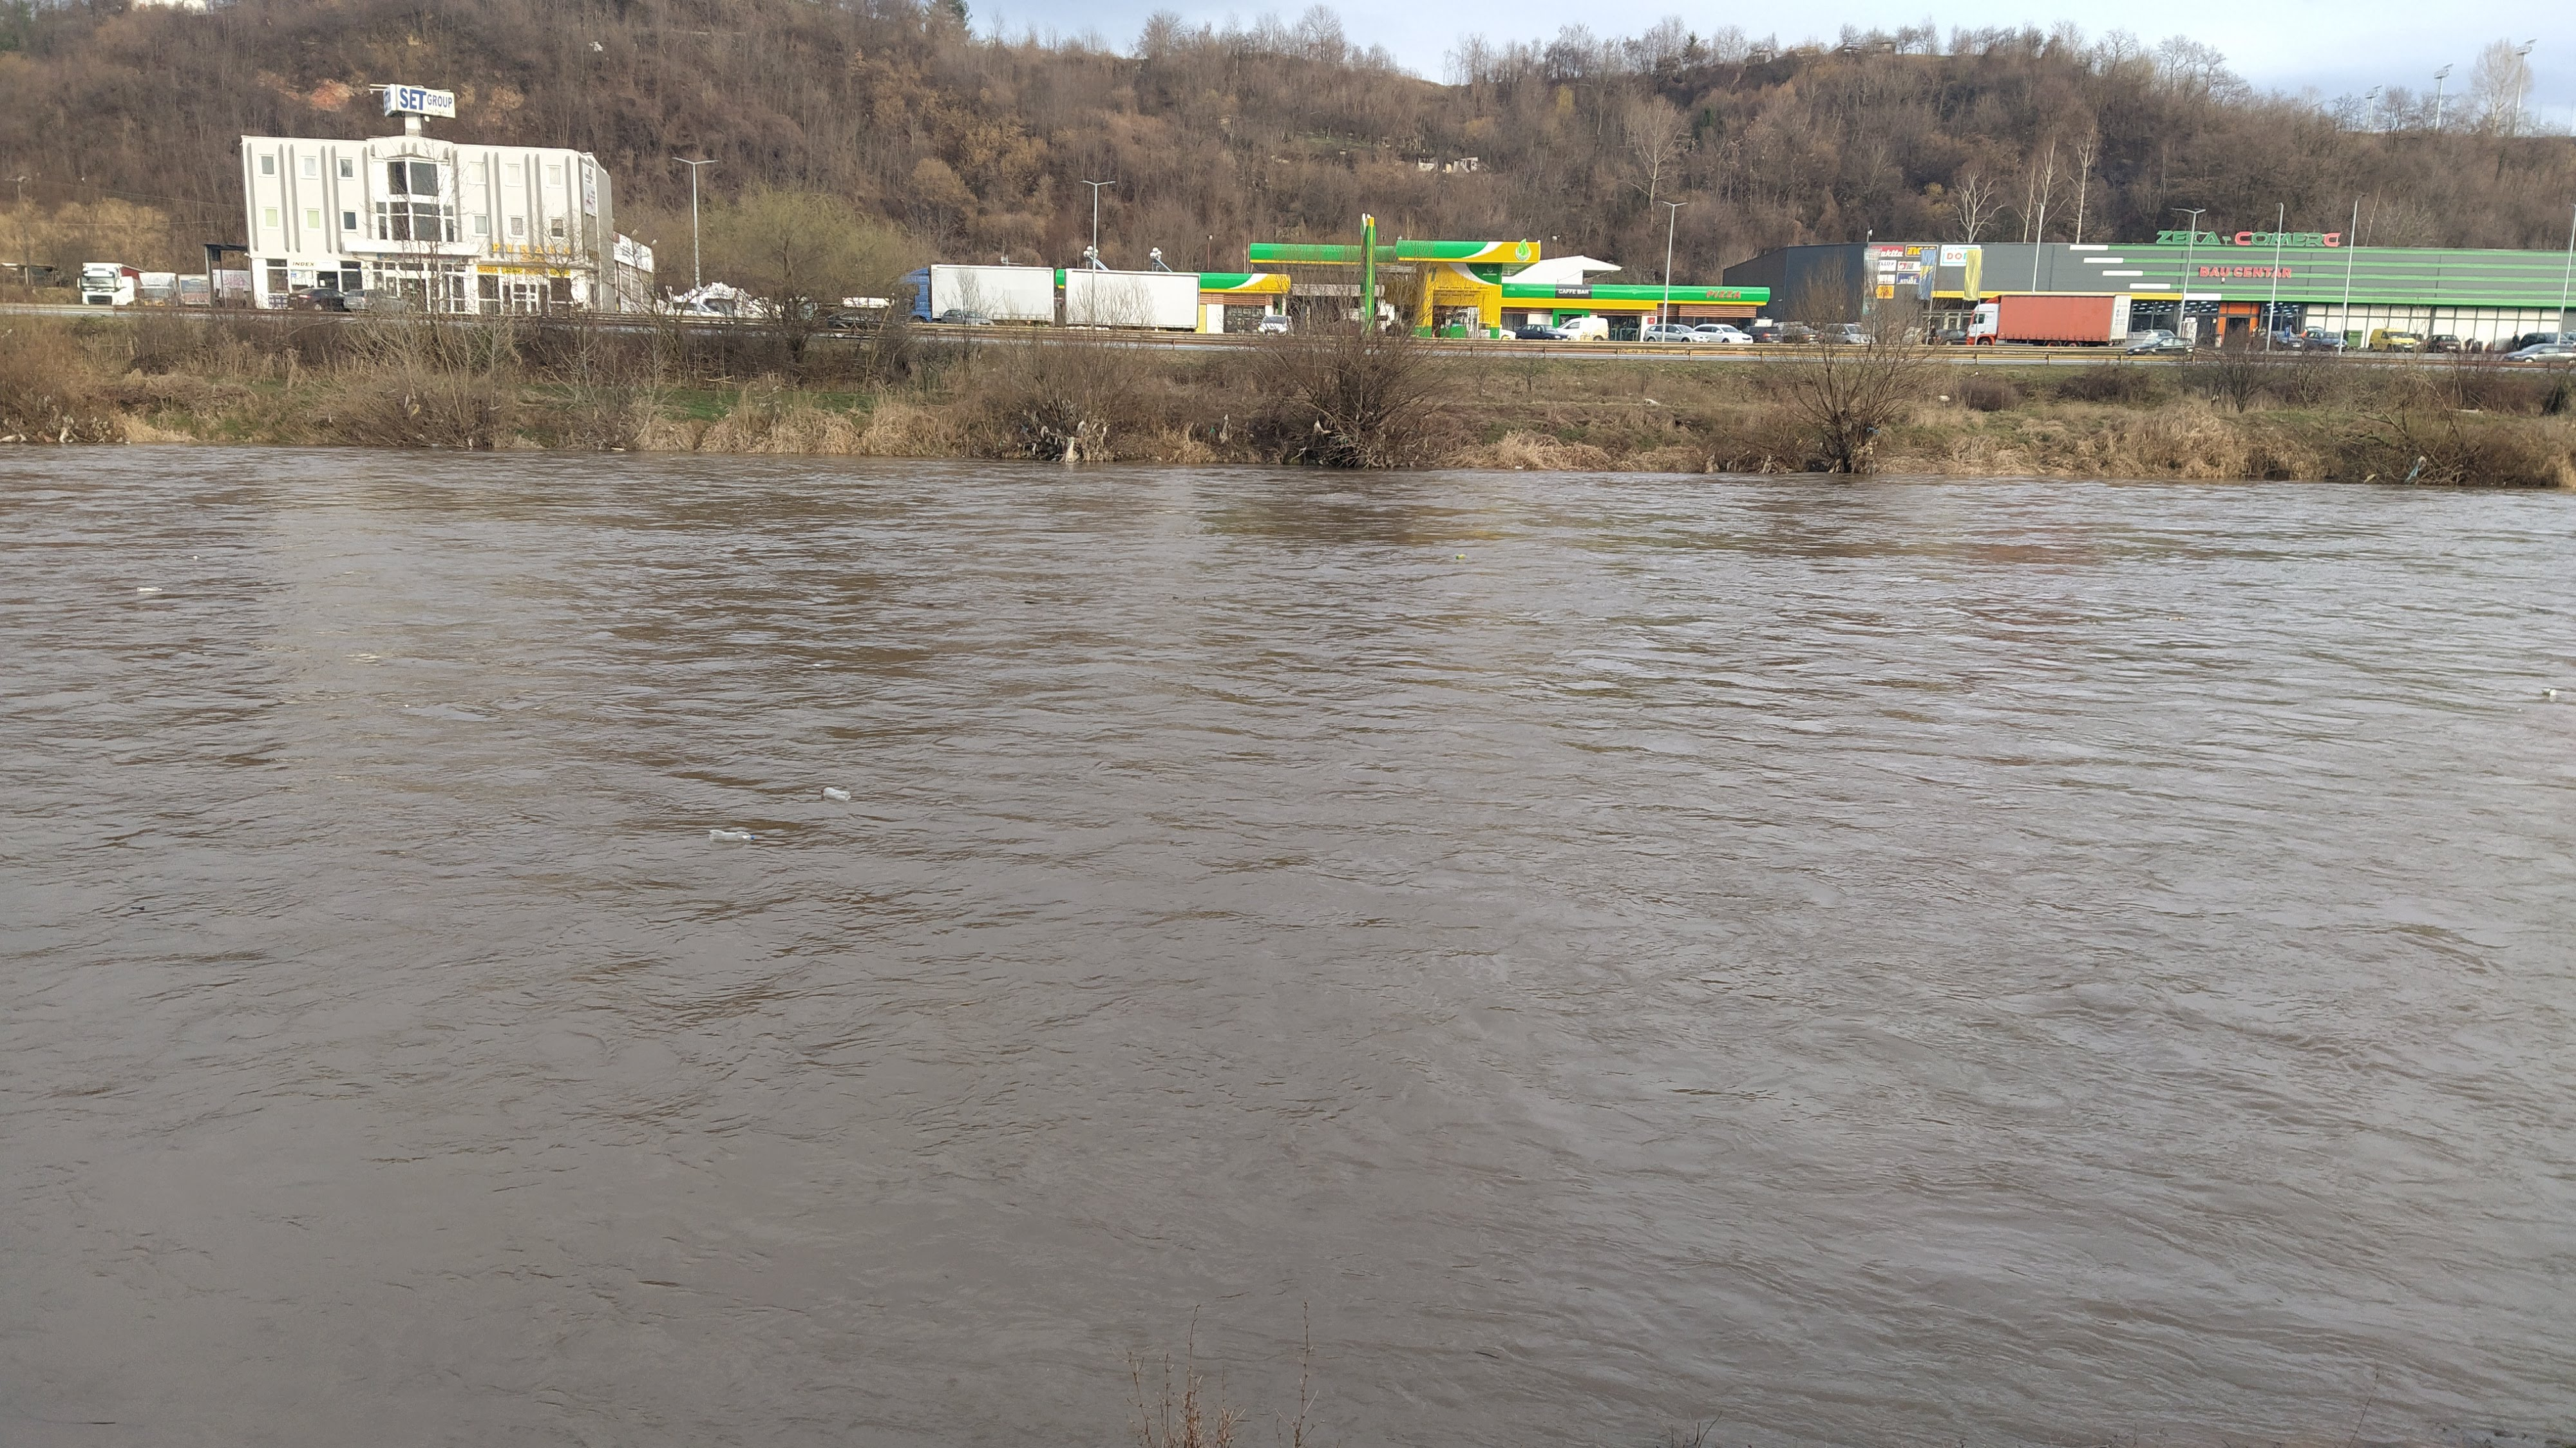Plastic Bottle: (708, 828, 754, 843), (821, 786, 849, 802), (136, 586, 161, 591), (2549, 689, 2557, 697), (2541, 687, 2549, 694), (1456, 554, 1467, 559), (432, 443, 439, 446), (1514, 466, 1522, 469)
